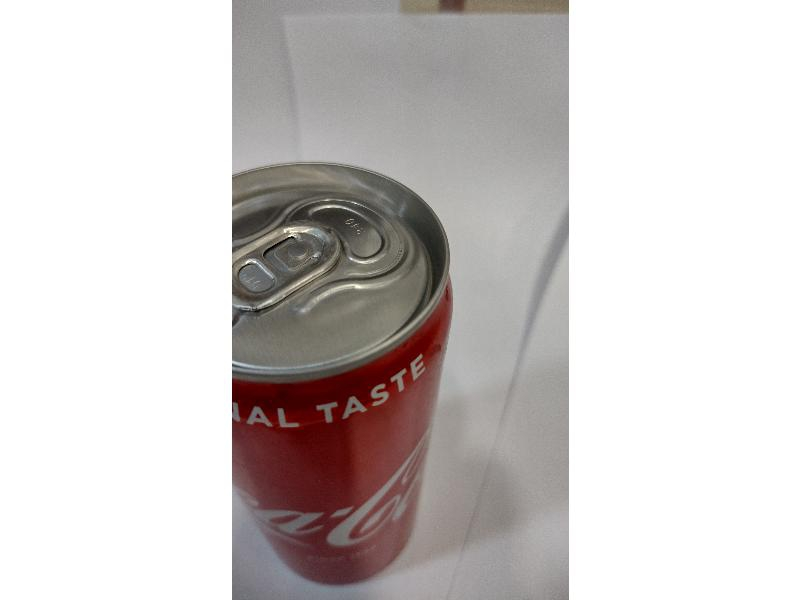can: (237, 162, 457, 591)
